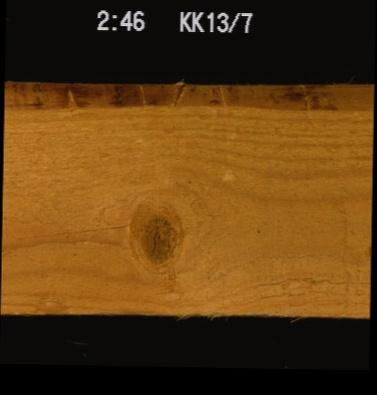sound_knot: (130, 198, 182, 272)
split: (1, 222, 132, 242)
wave: (3, 83, 372, 111)
